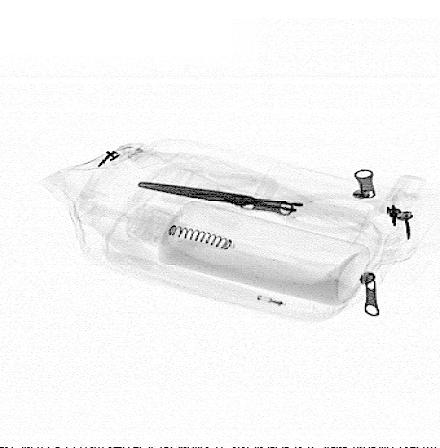Scissors: (133, 180, 391, 235)
